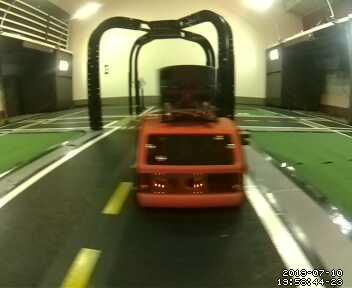pheeno: (135, 63, 246, 218)
